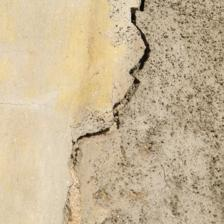Crack: (37, 2, 120, 144)
